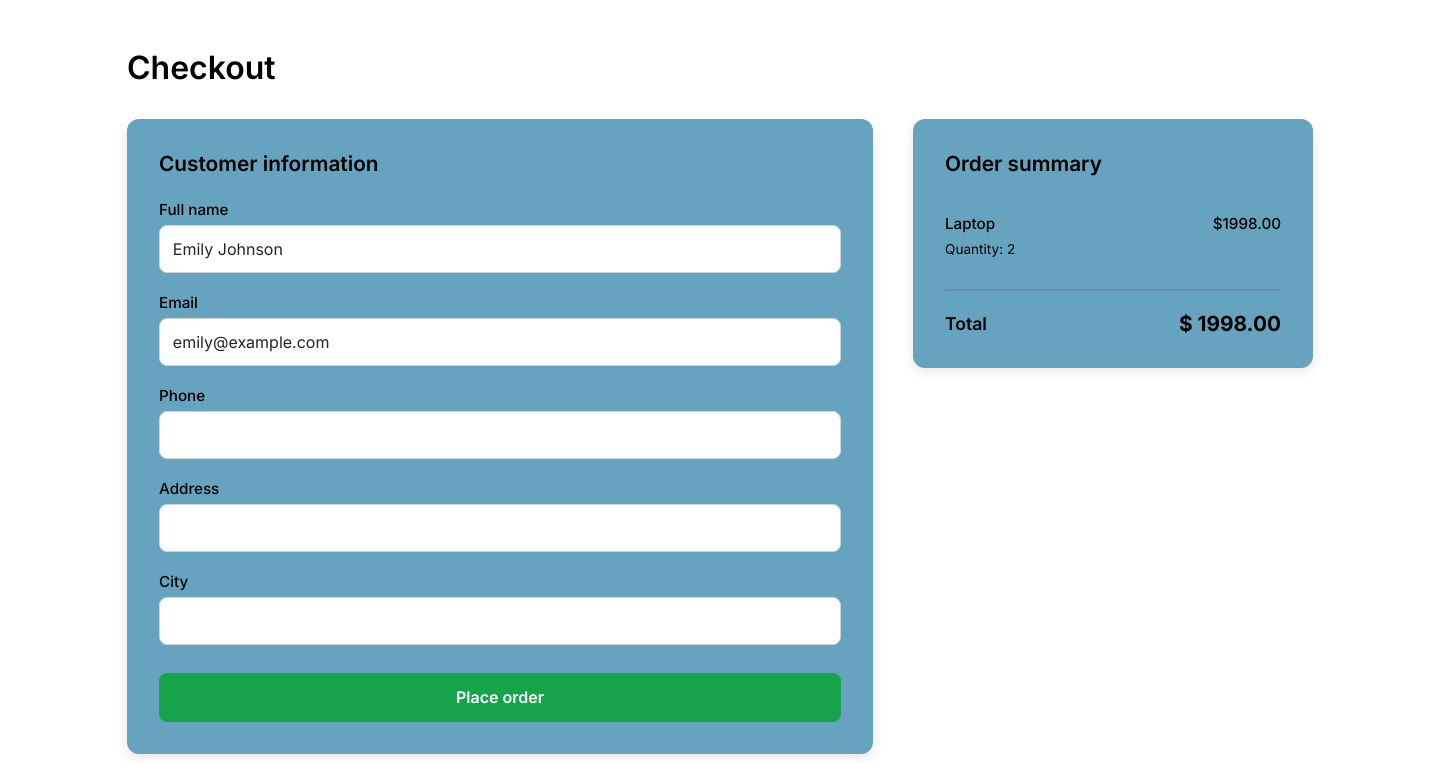
it: Checkout › shows an error for an invalid email
Replace the text in the field labelled "Email" with "invalid-email" at (500, 342), box [159,318,841,366]
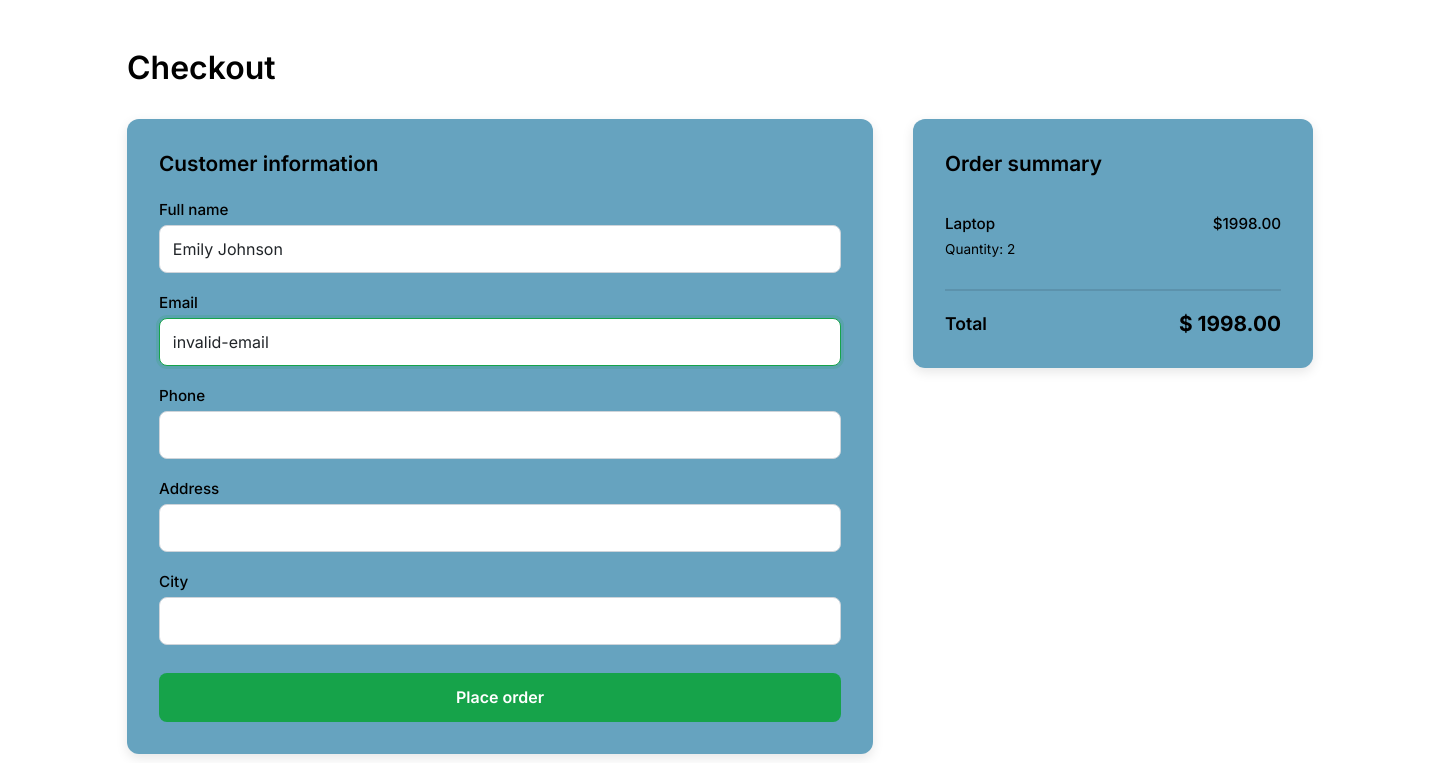
Click the button "Place order" at (500, 697), box [159,673,841,722]
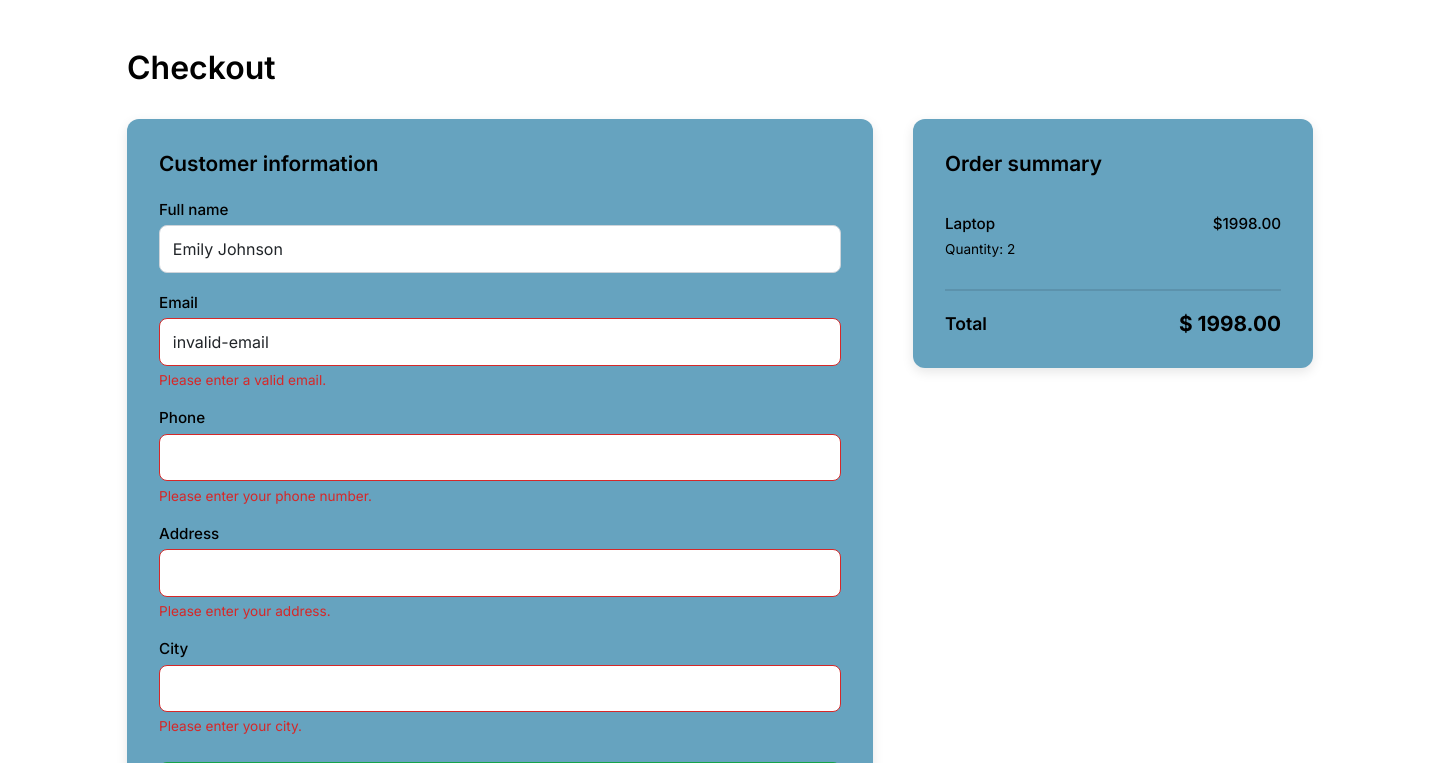
expect the text "Please enter a valid email." is shown: met, box [159,372,326,388]
